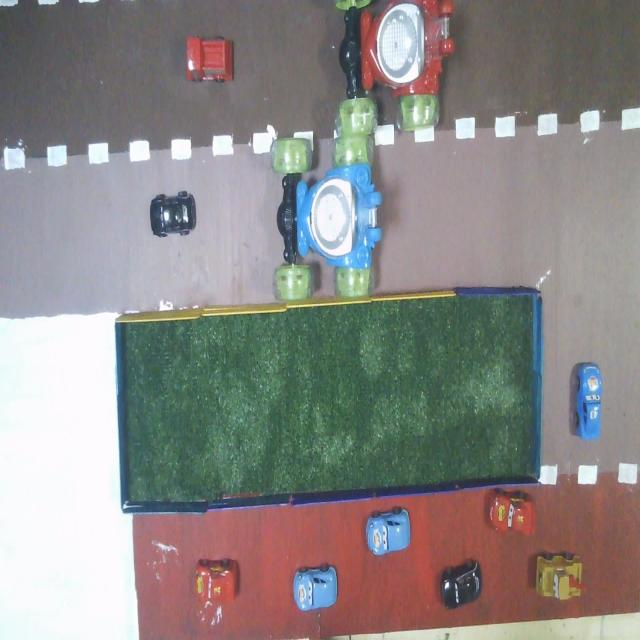driver car f: (271, 136, 381, 301)
small cars: (150, 191, 196, 237), (187, 37, 233, 82), (489, 489, 534, 535), (366, 508, 410, 555), (441, 560, 482, 609), (294, 565, 337, 610), (576, 363, 601, 439), (195, 559, 238, 603)
